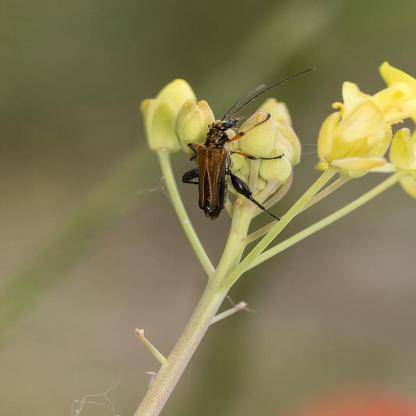beetle: (178, 102, 279, 226)
